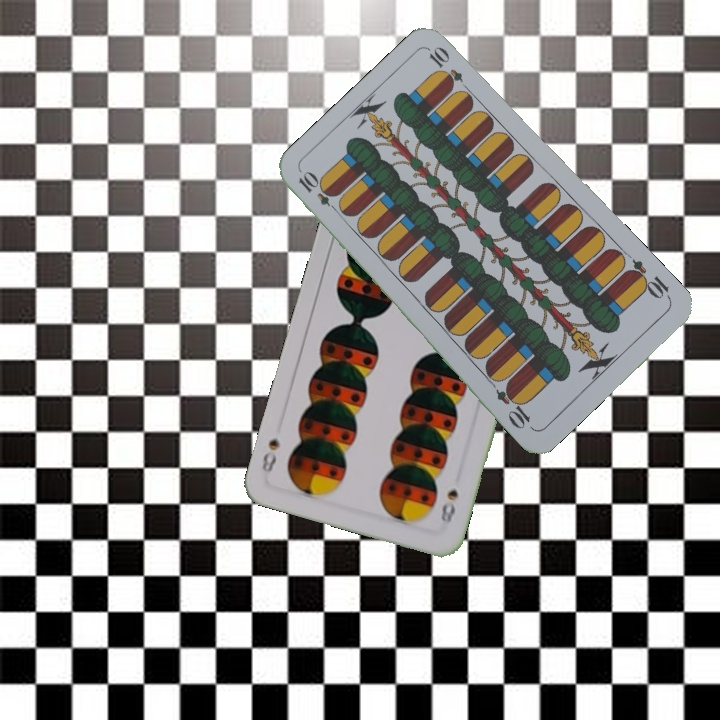E10: (622, 255, 674, 303), (294, 168, 344, 217)
S8: (436, 485, 461, 528)
